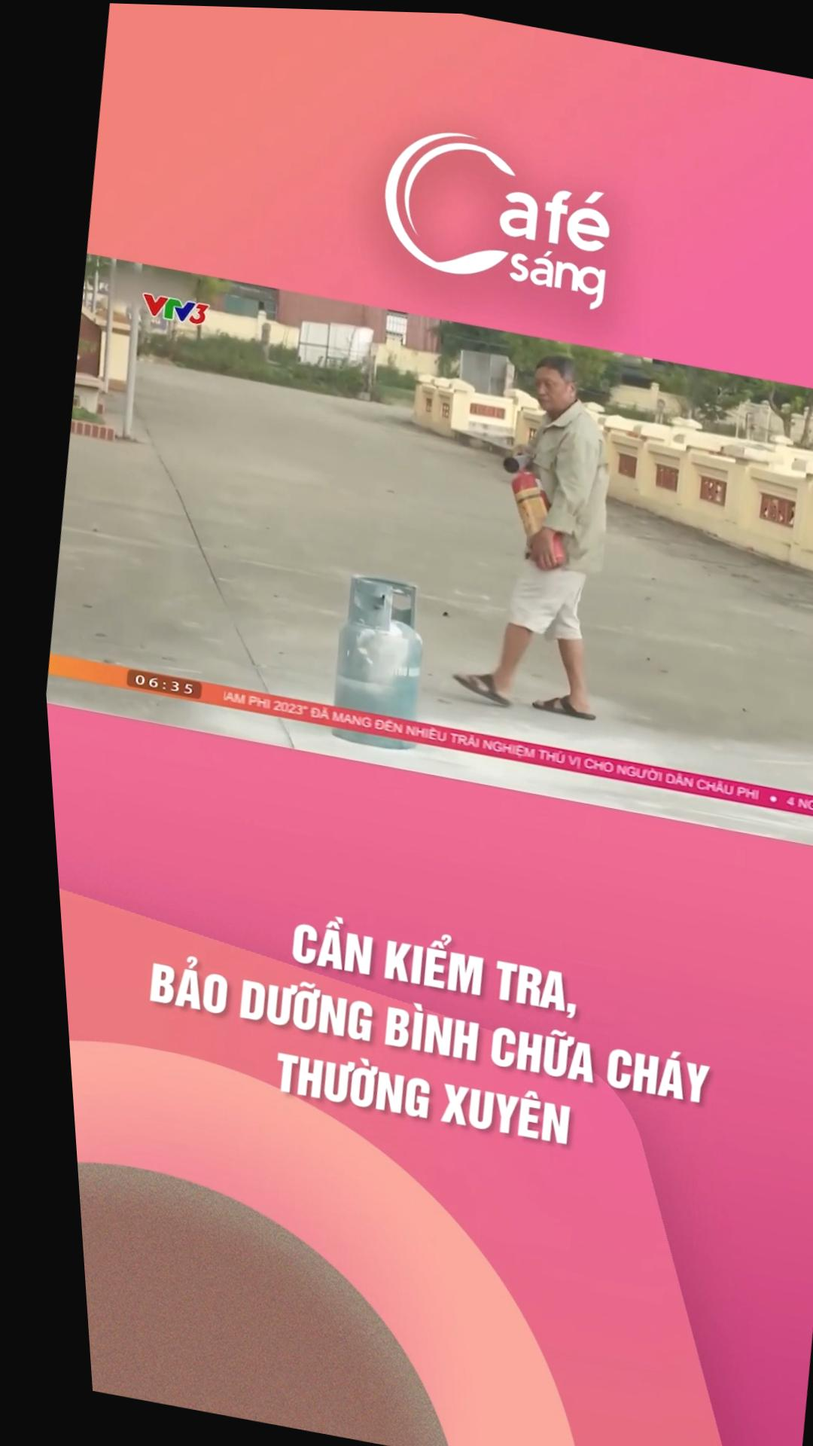FireExtinguisher: (479, 448, 581, 584)
not: (310, 555, 445, 752), (732, 465, 807, 536), (607, 439, 685, 496), (64, 304, 112, 395), (677, 455, 730, 513), (456, 392, 516, 443)
